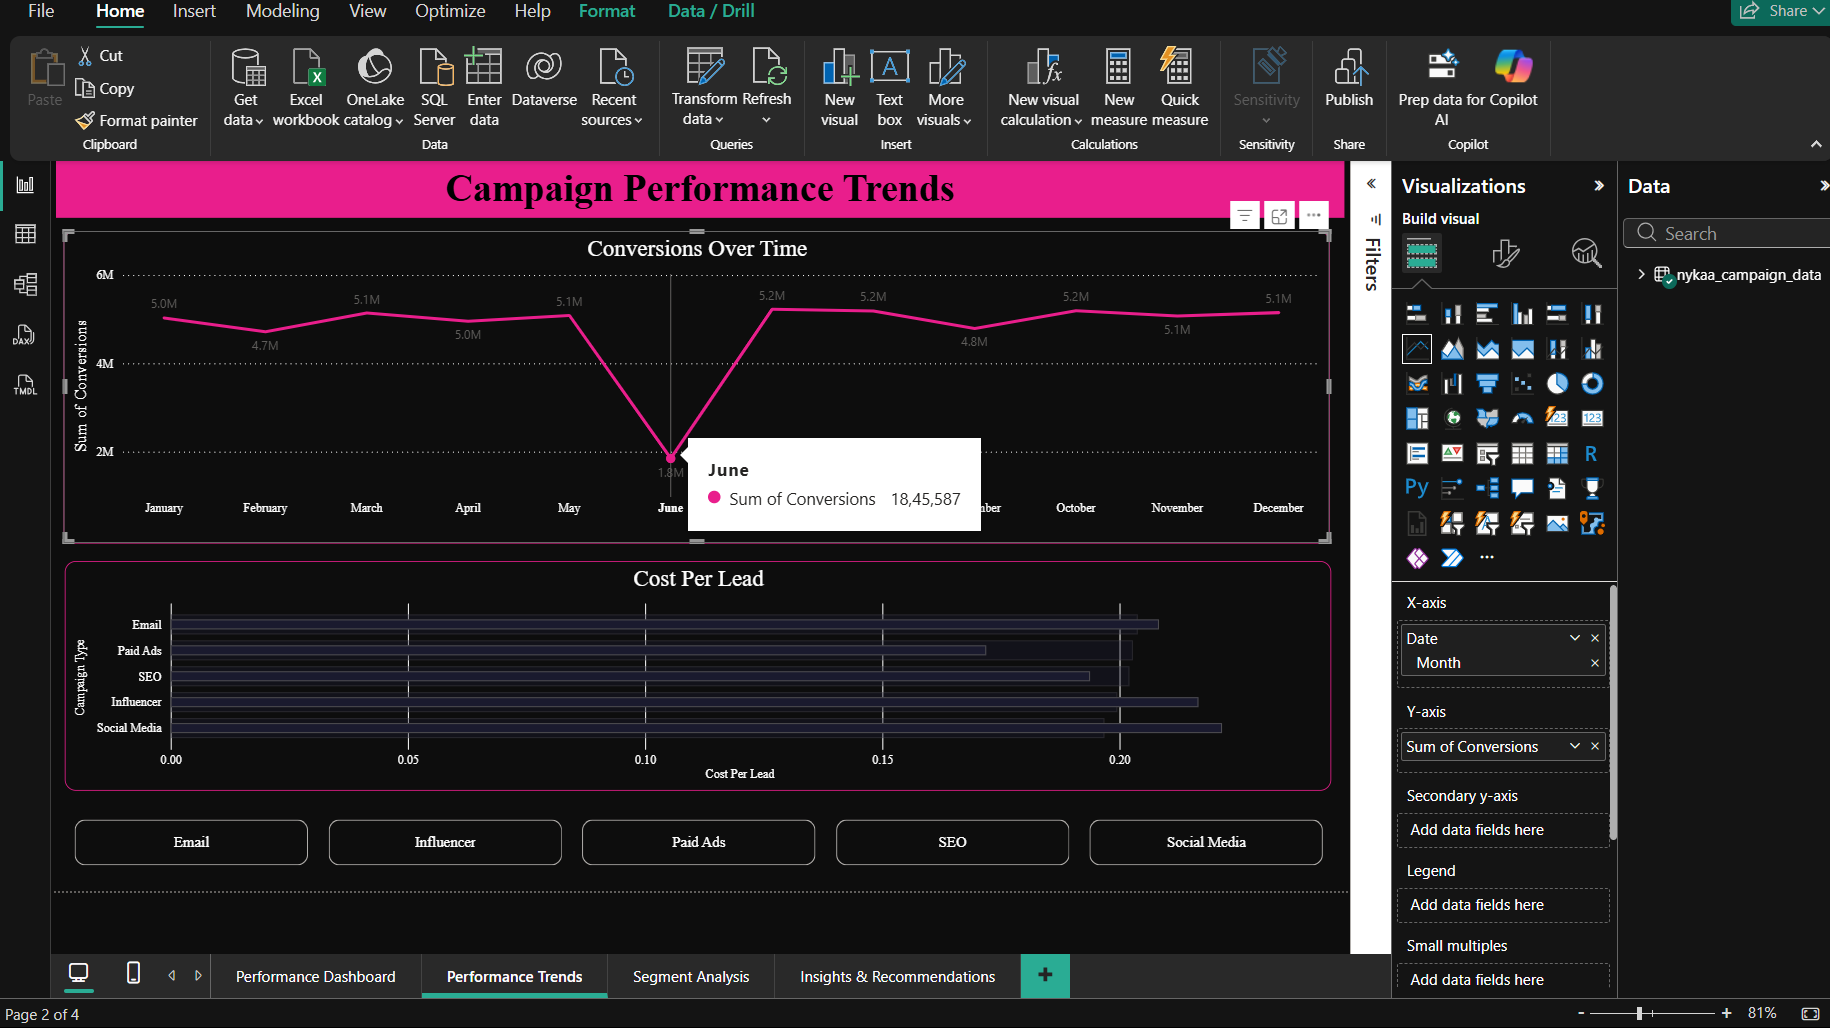

The dashboard page shown, as its layout file describes it:
{"tool":"powerbi","page":{"name":"Performance Trends","canvas":[1280,720],"ordinal":1},"visuals":[{"type":"lineChart","title":"Conversions Over Time","fields":{"Y":["Sum(nykaa_campaign_data.Conversions)"],"Category":["nykaa_campaign_data.Date.Variation.Date Hierarchy.Month"]},"box":[12.3,69,1247.7,307.9],"z":0},{"type":"textbox","box":[5.3,0,1269.4,55.8],"z":1000},{"type":"clusteredBarChart","title":"Cost Per Lead","fields":{"Category":["nykaa_campaign_data.Campaign_Type"],"Y":["nykaa_campaign_data.Cost Per Lead"]},"box":[13.5,394.2,1247.7,226.6],"z":2000},{"type":"advancedSlicerVisual","title":"Campaign Type","fields":{"Values":["nykaa_campaign_data.Campaign_Type"]},"box":[18.5,644.2,1244,55.4],"z":3000}]}

Visuals, with their boxes on the page's 1280x720 design canvas (x1, y1, x2, y2). These are canvas units, not pixel positions in the 1830x1028 screenshot, which may show the page scaled, cropped or inside an application window:
"Conversions Over Time" lineChart: bbox(12, 69, 1260, 377)
textbox: bbox(5, 0, 1275, 56)
"Cost Per Lead" clusteredBarChart: bbox(14, 394, 1261, 621)
"Campaign Type" advancedSlicerVisual: bbox(18, 644, 1262, 700)
